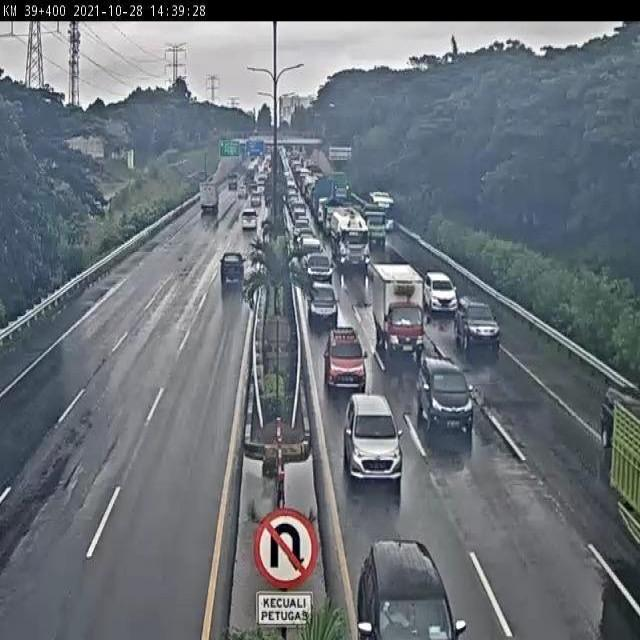big truck: (601, 380, 640, 559), (321, 202, 374, 274)
car: (352, 530, 456, 640), (334, 380, 407, 487), (403, 347, 477, 442), (577, 371, 635, 452), (322, 324, 368, 392), (453, 291, 501, 356), (210, 247, 249, 292), (425, 270, 458, 318), (306, 276, 338, 325), (301, 250, 335, 286), (237, 205, 264, 243), (242, 190, 269, 210), (232, 181, 252, 200)
small truck: (369, 264, 430, 359), (357, 197, 389, 244), (194, 173, 224, 216)
